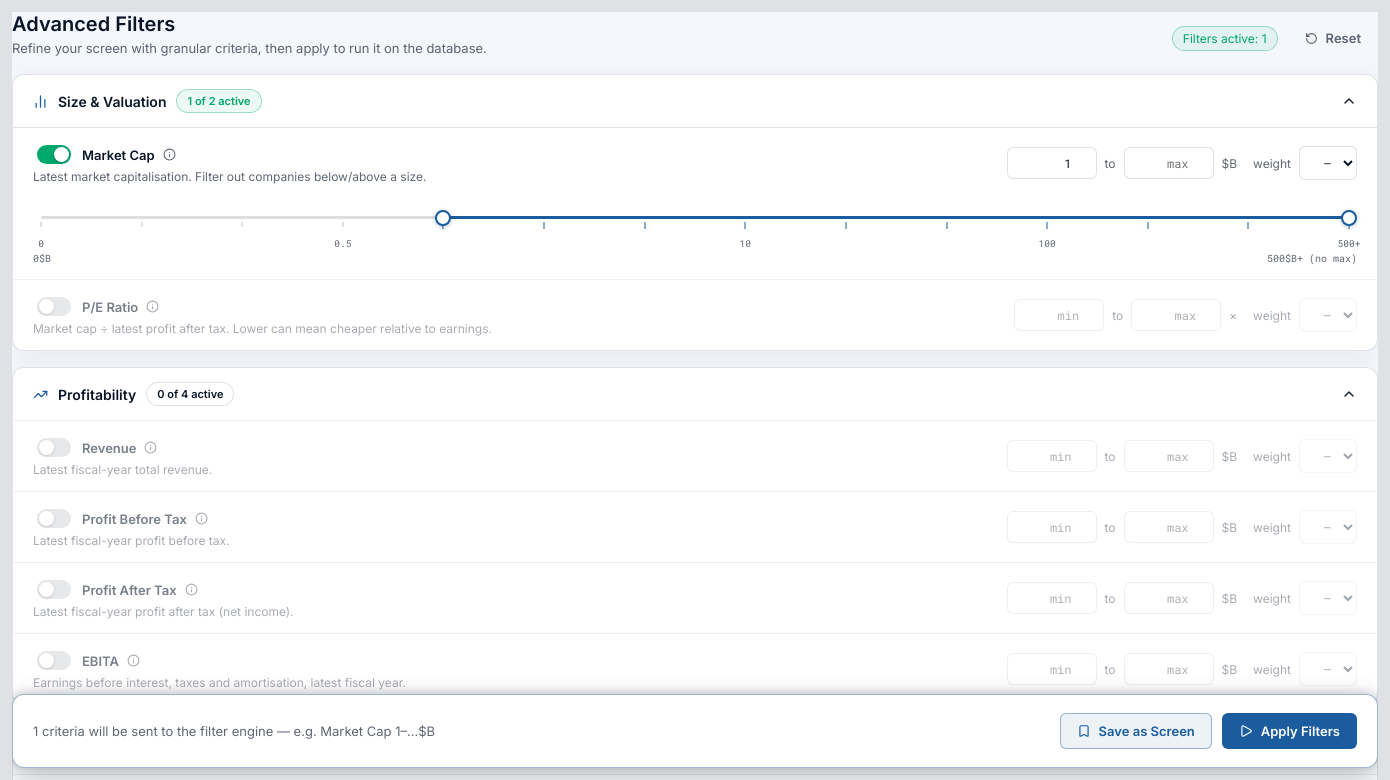
it: Advanced Filters - Save as Screen › shows the failure and keeps the name field open when the save is rejected
The image size is (1390, 780).
Click the button "Save as Screen" at [1136, 731], box [1060,713,1212,749]
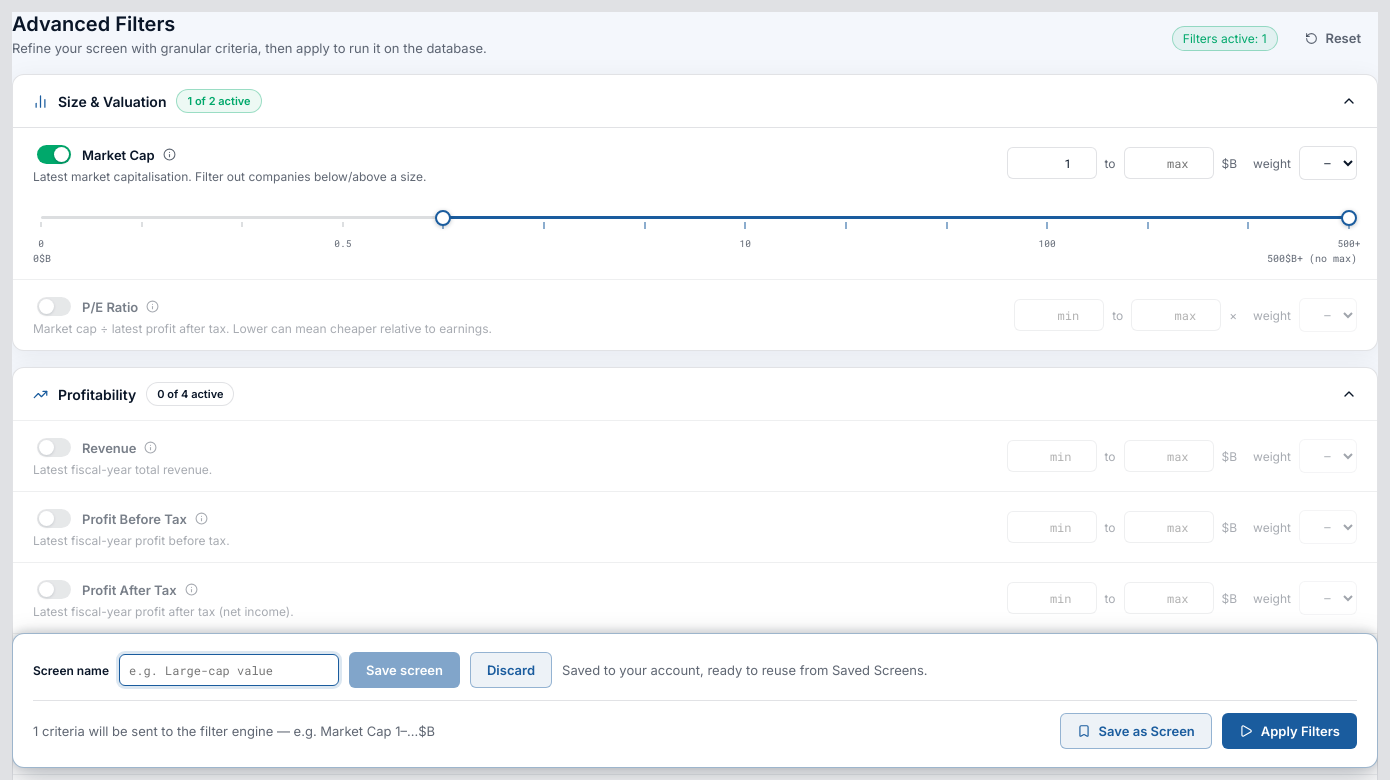
Type "Nope" into the field labelled "Screen name" at [229, 670], box [119,654,339,686]
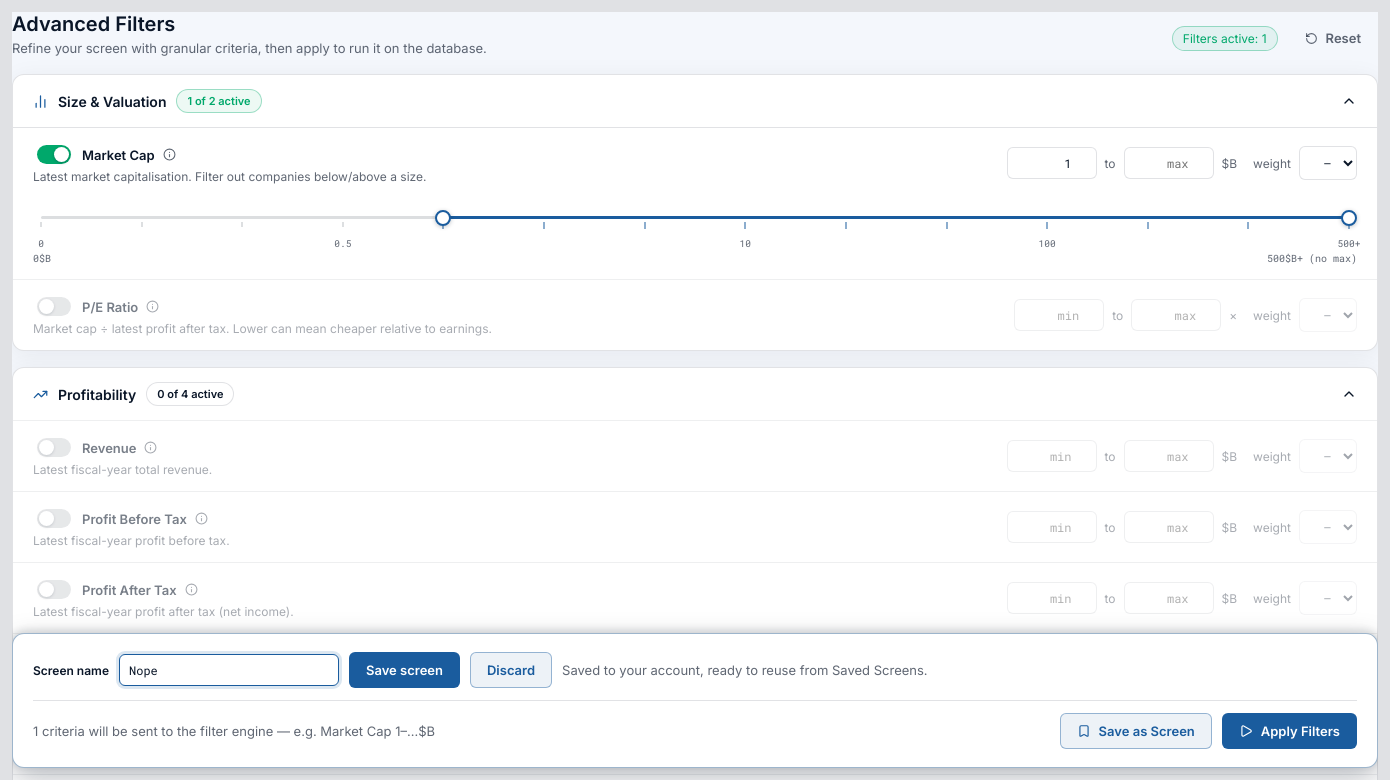
Click the button "Save screen" at [404, 670], box [349,652,460,688]
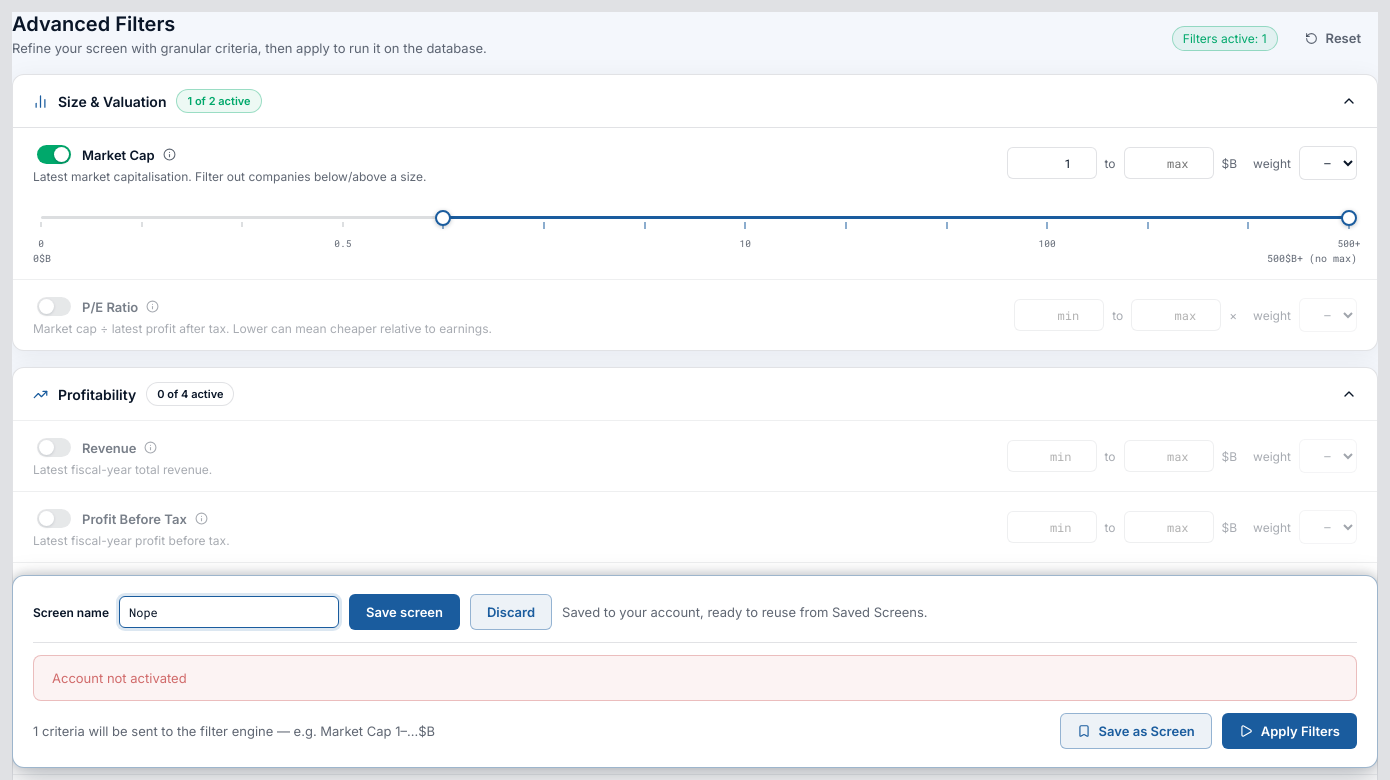
Check: the text "Account not activated" is shown, box [33,655,1357,701]
